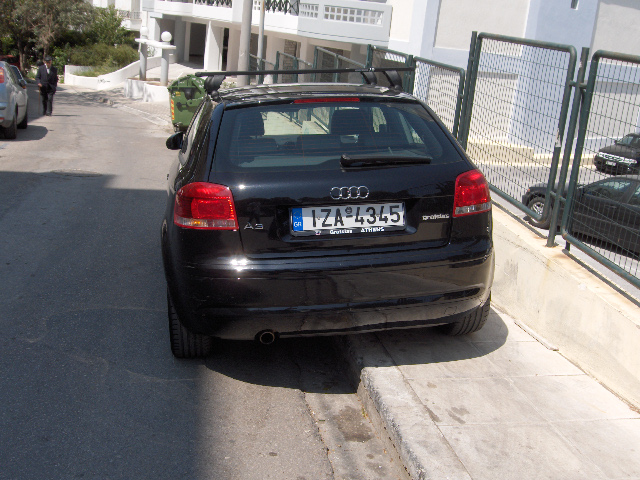licenseplate: (289, 201, 406, 231)
